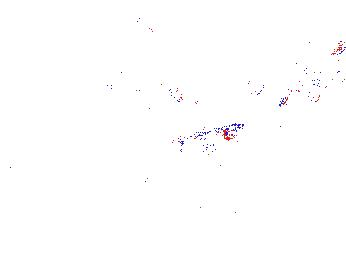X-ray fish: (133, 12, 158, 55)
glassfish: (168, 120, 244, 158)
redtail glassfish: (247, 62, 318, 97), (104, 78, 184, 108), (99, 57, 173, 82)
